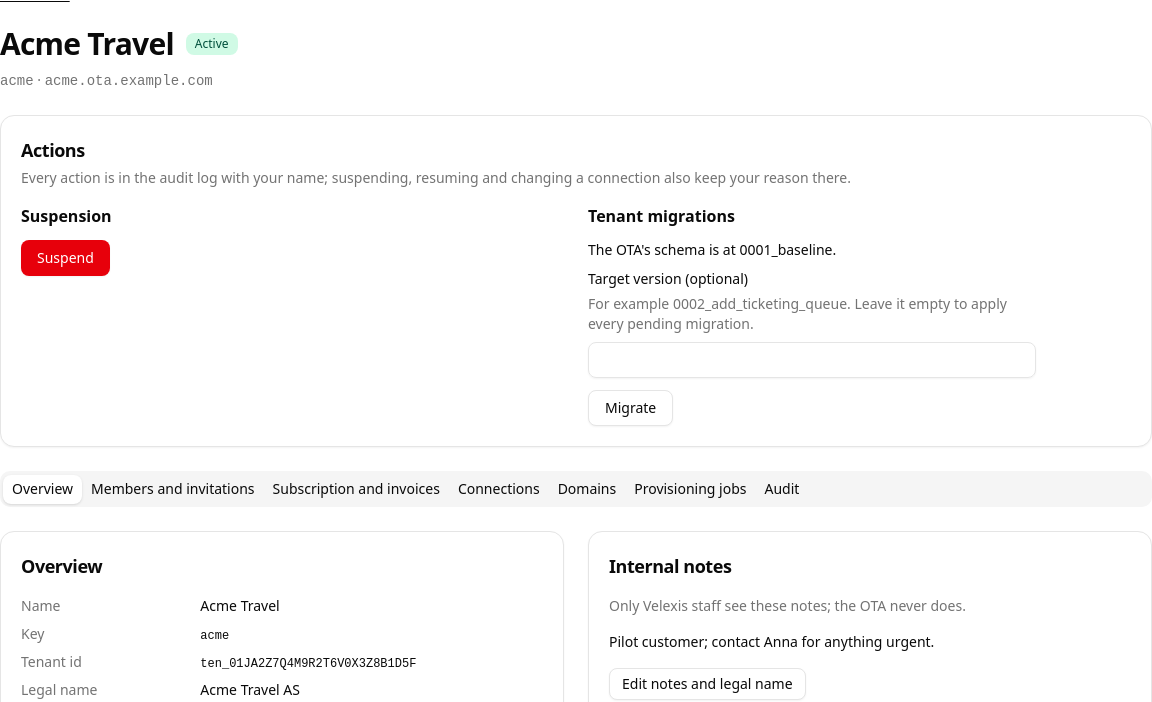
Test case: notes and legal name › [PAD-005 AC2] a stale notes edit shows the reload message (412) and keeps what was typed
The image size is (1152, 702).
Click the button "Edit notes and legal name" at coordinates (707, 684), box [609,668,806,700]
(page scrolled)
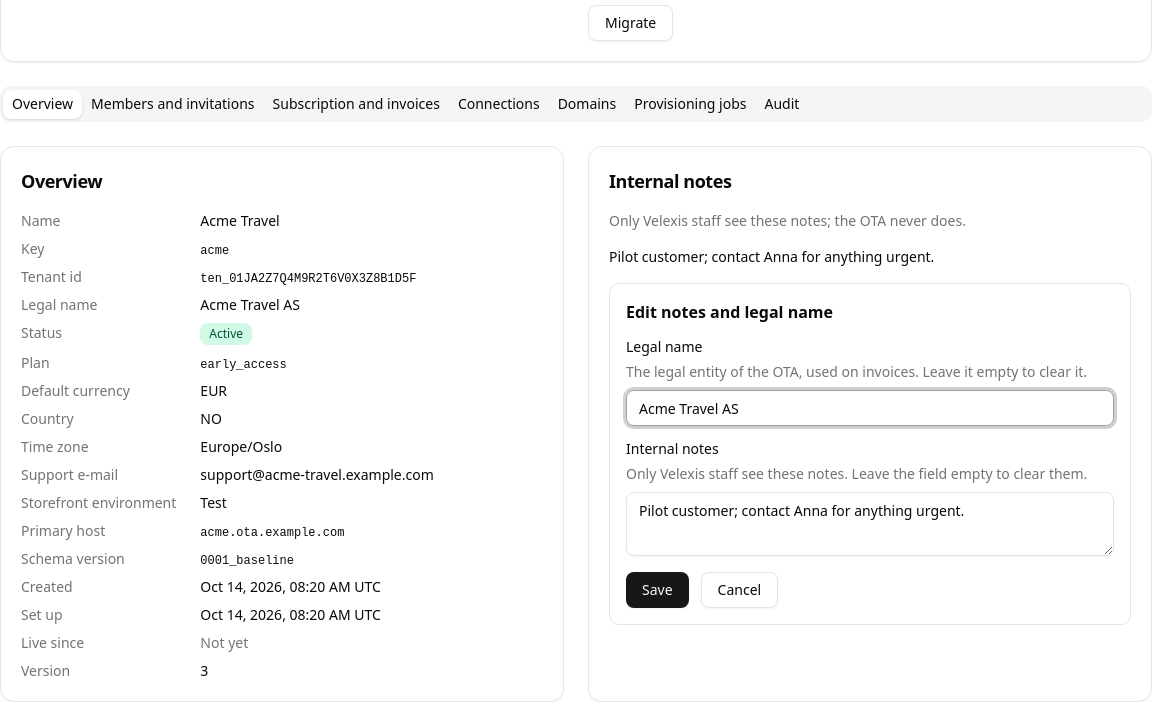
Check: the text box labelled "Internal notes" holds "Pilot customer; contact Anna for anything urgent."
Check: the field labelled "Legal name" holds "Acme Travel AS", box [626,390,1114,426]
Replace the text in the text box labelled "Internal notes" with "Moved to the Growth plan in November." at coordinates (870, 524), box [626,492,1114,556]
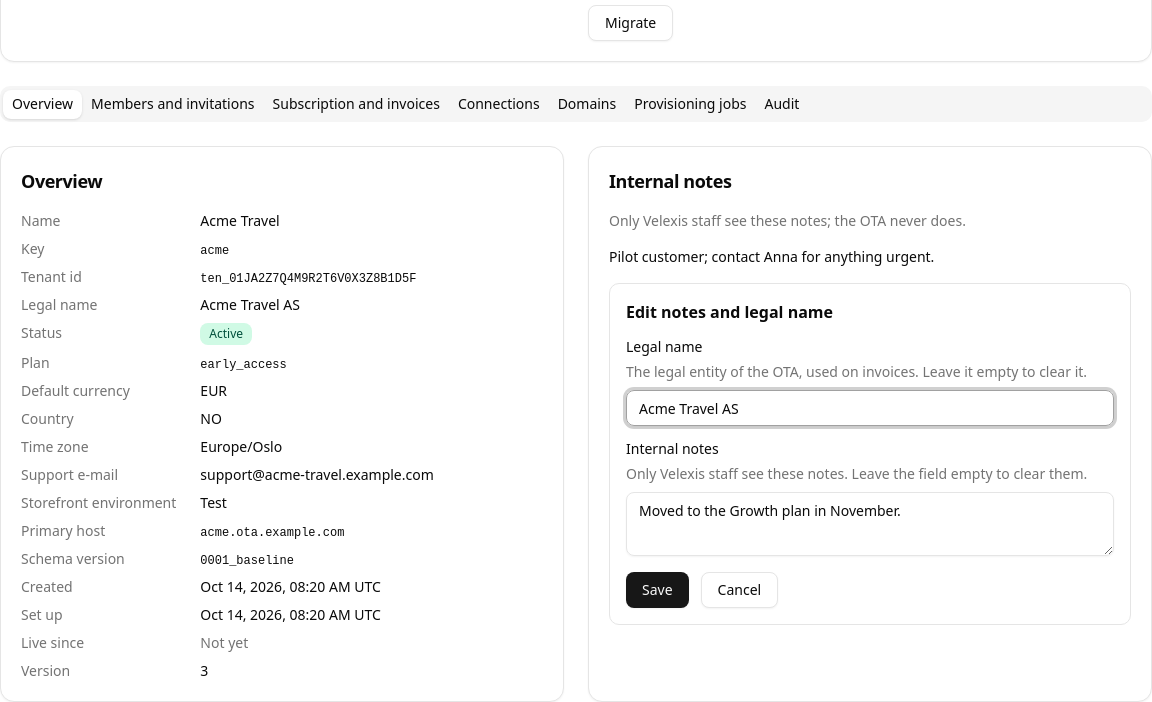
Submit the form "Edit notes and legal name", box [609,283,1131,625]
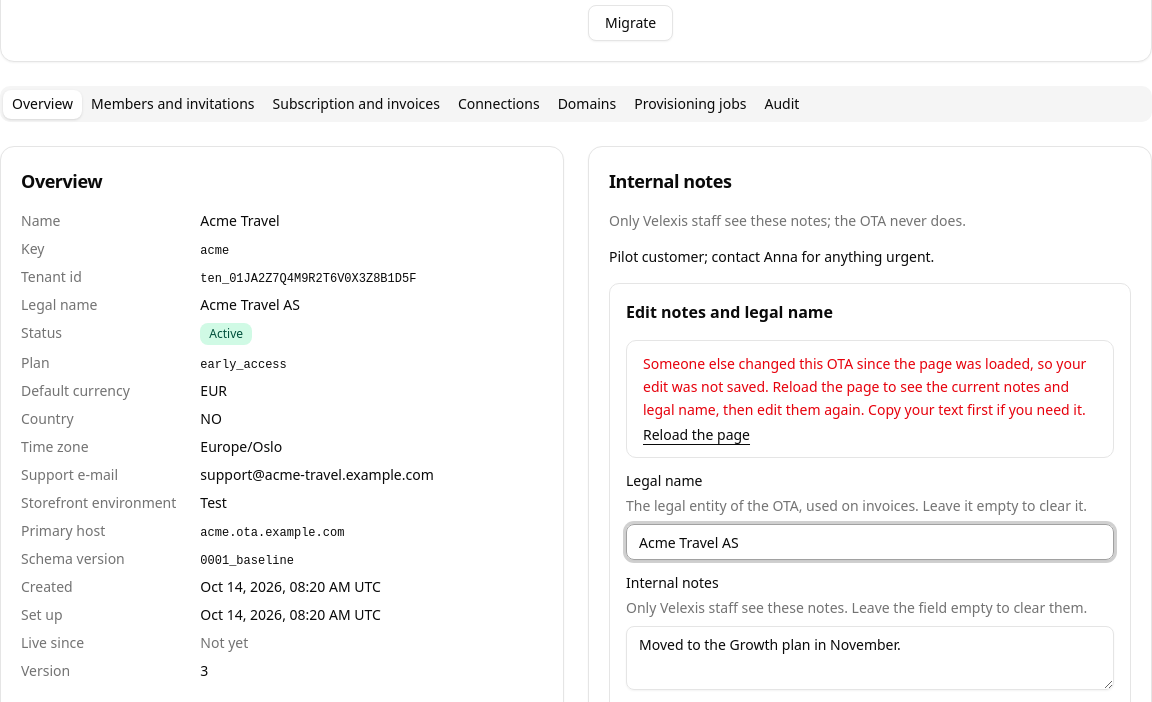
Check: the text "Someone else changed this OTA since the page was loaded, so your edit was not saved. Reload the page to see the current " is shown, box [643,354,1086,418]
